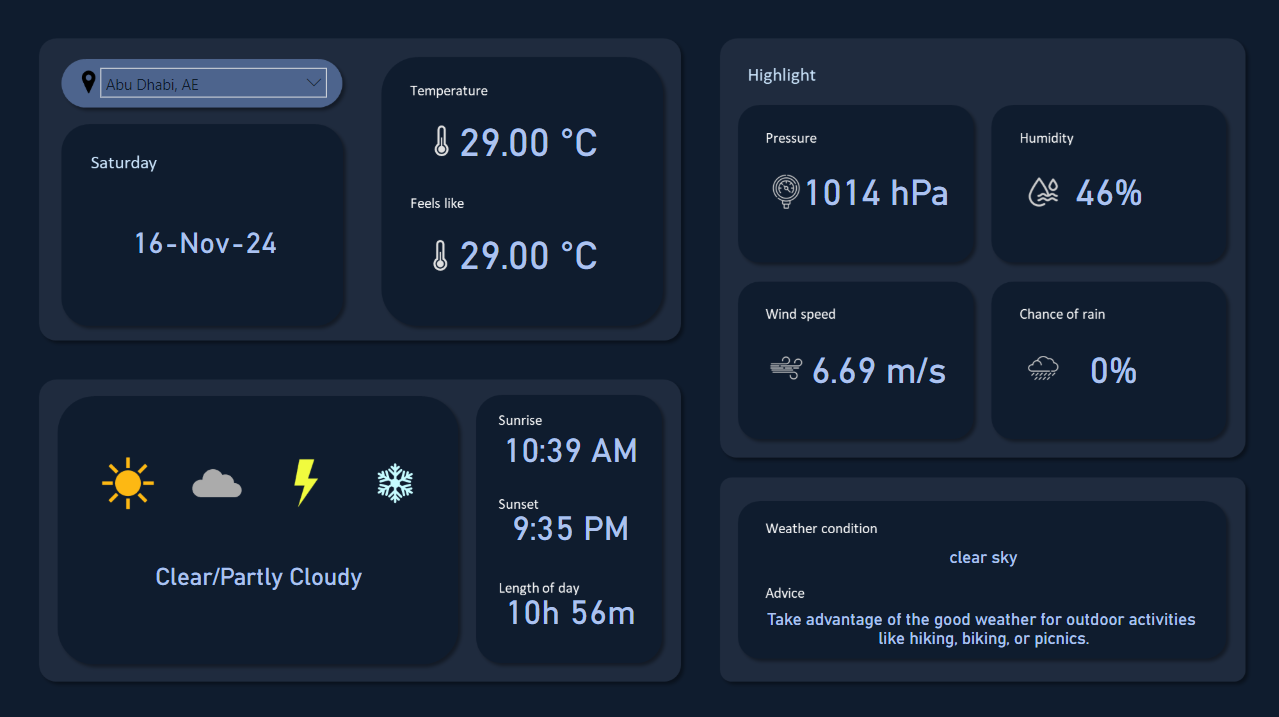

The page's visual inventory and layout, read from the dashboard file:
{"tool":"powerbi","page":{"name":"Page 1","canvas":[1280,720],"ordinal":0},"visuals":[{"type":"slicer","fields":{"Values":["weather_data city_weather.location"]},"box":[90.6,57.6,247,50.8],"z":0},{"type":"card","fields":{"Values":["Min(weather_data city_weather.sunrise)"]},"box":[477.5,402.1,186.6,90.6],"z":1000},{"type":"card","fields":{"Values":["Min(weather_data city_weather.sunset)"]},"box":[477.5,469.3,186.6,113.9],"z":2000},{"type":"card","fields":{"Values":["Min(weather_data city_weather.LengthOfDay)"]},"box":[477.5,557.1,186.6,104.3],"z":3000},{"type":"card","fields":{"Values":["Min(weather_data city_weather.date)"]},"box":[81.4,205.7,247.1,70],"z":4000},{"type":"card","fields":{"Values":["Min(weather_data city_weather.HumidityWithUnit)"]},"box":[990.7,127.6,236,123.5],"z":5000},{"type":"card","fields":{"Values":["Min(weather_data city_weather.WindSpeedWithUnit)"]},"box":[764.3,304.6,230.5,123.5],"z":6000},{"type":"card","fields":{"Values":["Min(weather_data city_weather.FeelsLikeWithUnit)"]},"box":[417.2,200.3,222.3,104.3],"z":7000},{"type":"card","fields":{"Values":["Sum(weather_data city_weather.chance_of_rain)"]},"box":[994.9,304.6,237.4,123.5],"z":8000},{"type":"card","fields":{"Values":["Min(weather_data city_weather.Category)"]},"box":[59,526.9,400.7,96.1],"z":9000},{"type":"card","fields":{"Values":["Min(weather_data city_weather.TemperatureWithUnit)"]},"box":[417.2,86.4,222.3,104.3],"z":10000},{"type":"card","fields":{"Values":["Min(weather_data city_weather.PressureWithUnit)"]},"box":[757.5,127.6,237.4,123.5],"z":11000},{"type":"card","fields":{"Values":["Min(weather_data city_weather.weather_description)"]},"box":[738.3,529.7,489.9,56.3],"z":13000},{"type":"card","fields":{"Values":["Min(Sheet1.advices)"]},"box":[738.3,599.7,489.9,57.6],"z":14000}]}

Visuals, with their boxes in screenshot pixels (x1, y1, x2, y2), scaled from the page's 1280x720 canvas onto the 1279x717 screenshot:
slicer - weather_data city_weather.location: 91 57 337 108
card - Min(weather_data city_weather.sunrise): 477 400 664 491
card - Min(weather_data city_weather.sunset): 477 467 664 581
card - Min(weather_data city_weather.LengthOfDay): 477 555 664 659
card - Min(weather_data city_weather.date): 81 205 328 275
card - Min(weather_data city_weather.HumidityWithUnit): 990 127 1226 250
card - Min(weather_data city_weather.WindSpeedWithUnit): 764 303 994 426
card - Min(weather_data city_weather.FeelsLikeWithUnit): 417 199 639 303
card - Sum(weather_data city_weather.chance_of_rain): 994 303 1231 426
card - Min(weather_data city_weather.Category): 59 525 459 620
card - Min(weather_data city_weather.TemperatureWithUnit): 417 86 639 190
card - Min(weather_data city_weather.PressureWithUnit): 757 127 994 250
card - Min(weather_data city_weather.weather_description): 738 527 1227 584
card - Min(Sheet1.advices): 738 597 1227 655
